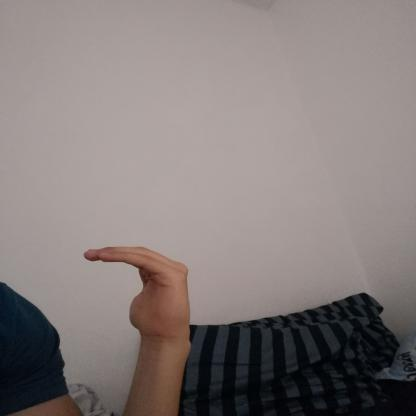HAA: (65, 234, 215, 347)
